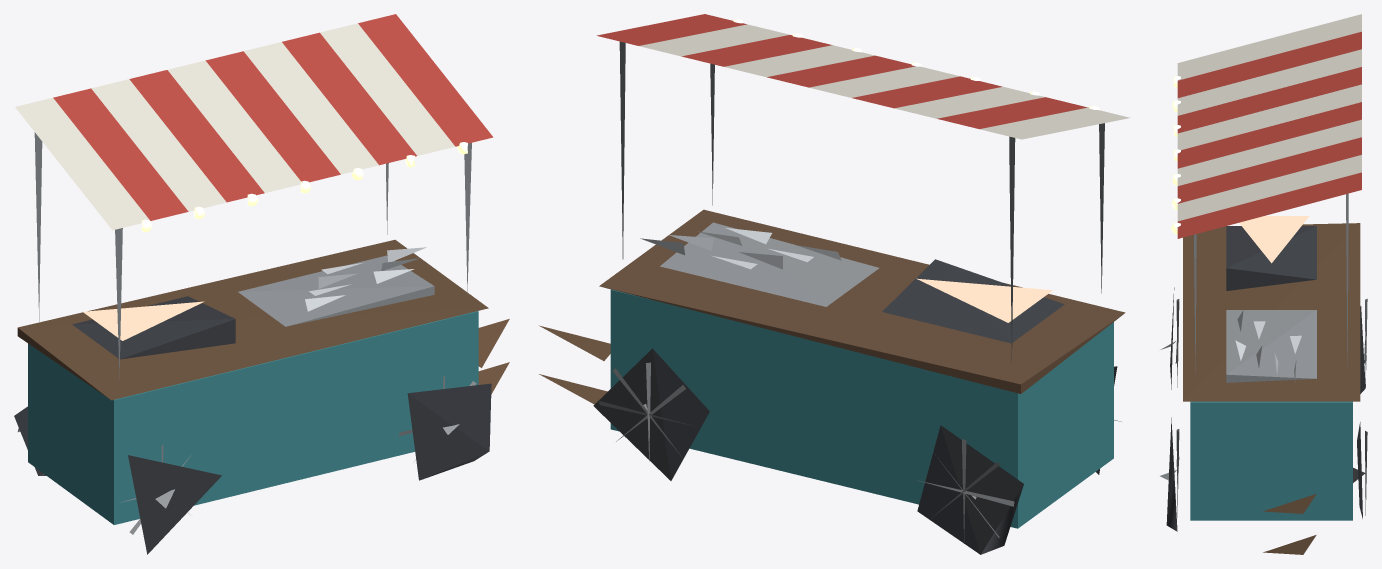
Rendered from prop_fish_cart_lod1.glb.
3 views of the same model, side by side, from view 1: azimuth 30°, elevation 25°; view 2: azimuth 150°, elevation 25°; view 3: azimuth 270°, elevation 25° (orthographic). The views are drawn at different scales.
Parts seen in each view (by area): view 1: fish_cart.001_lod1, fish_cart_glow_lod1; view 2: fish_cart.001_lod1, fish_cart_glow_lod1; view 3: fish_cart.001_lod1, fish_cart_glow_lod1.
Boxes of the visible parts, box(x1,y1,x2,y2) form: fish_cart.001_lod1: box(14, 14, 509, 554); fish_cart_glow_lod1: box(82, 142, 467, 340); fish_cart.001_lod1: box(539, 14, 1130, 554); fish_cart_glow_lod1: box(733, 19, 1099, 322); fish_cart.001_lod1: box(1160, 14, 1367, 554); fish_cart_glow_lod1: box(1170, 76, 1309, 263).
Size of the model in its own units: 2.81 by 2.2 by 1.15.
